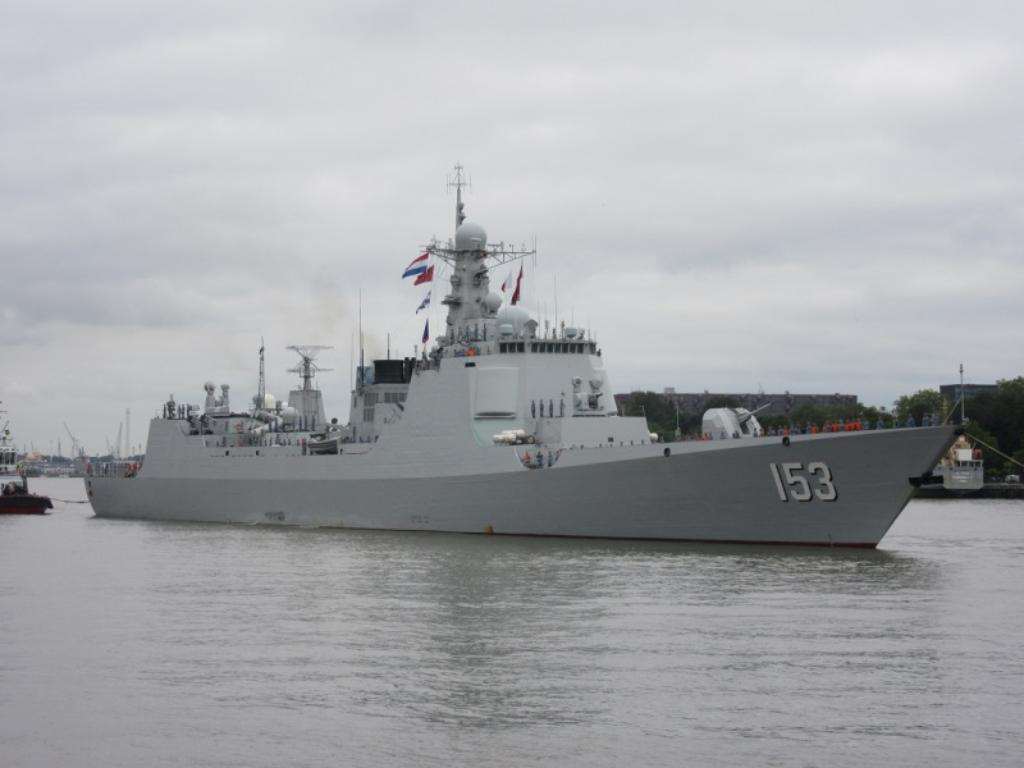Warship: (76, 160, 974, 554)
